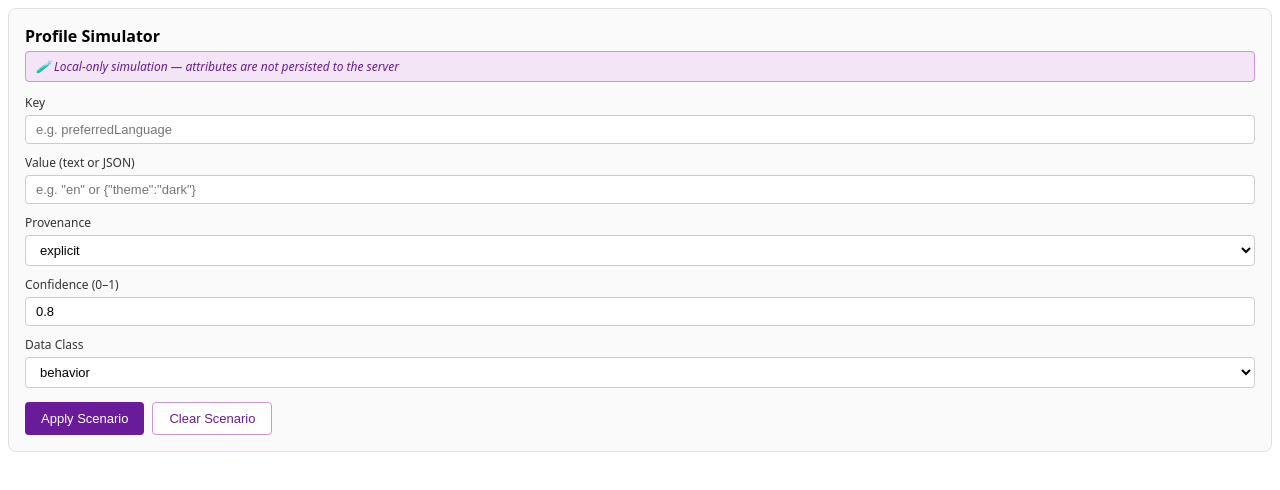
ProfileSimulator › validation: confidence outside [0,1] (Req 11.6) › shows field-level error when confidence < 0
The image size is (1280, 490).
Replace the text in the number field with test id "ps-confidence-input" with "-0.1" at (640, 312), box x1=25 y1=297 x2=1255 y2=326
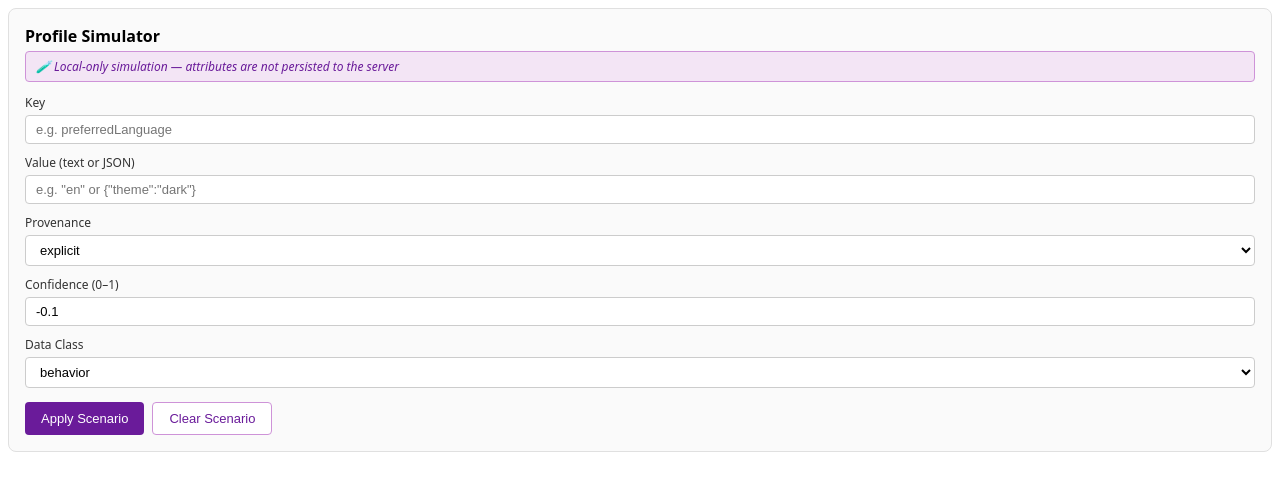
Click the button with test id "ps-apply-button".
click(85, 418)  # box x1=25 y1=402 x2=144 y2=435
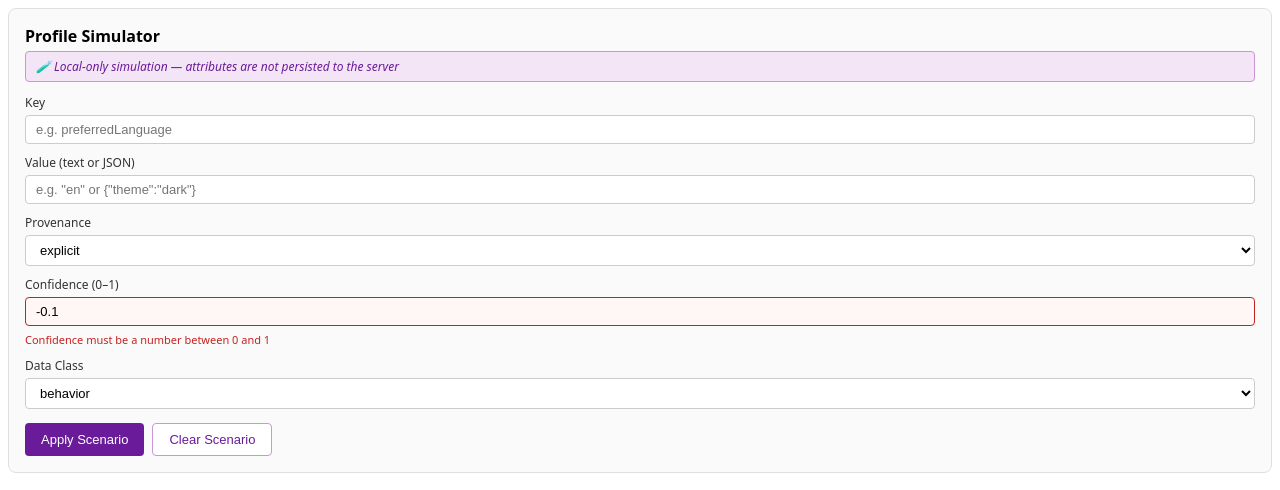
Result: the message "Confidence must be a number between 0 and 1" is shown at x1=25 y1=332 x2=270 y2=347
